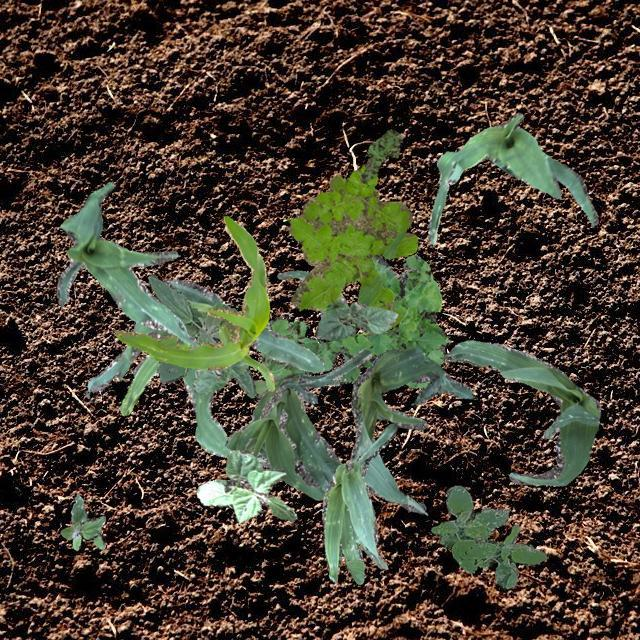crop: (84, 278, 324, 467), (114, 214, 274, 390), (54, 180, 198, 347), (428, 112, 598, 245), (444, 340, 600, 484), (224, 348, 370, 499), (348, 347, 472, 512), (320, 422, 396, 584), (196, 448, 296, 522), (276, 268, 348, 362), (314, 300, 396, 340), (192, 360, 248, 392)
weed: (260, 252, 448, 388), (286, 164, 416, 326), (146, 274, 255, 396), (430, 484, 546, 588), (59, 494, 104, 550), (360, 128, 400, 182)
